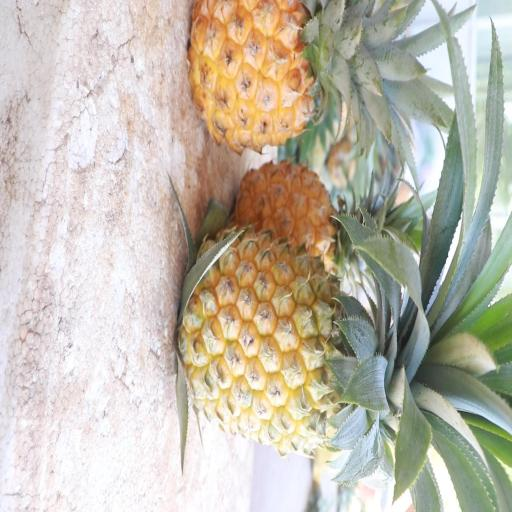Pineapple - v8 v1: (173, 220, 427, 457), (184, 0, 374, 162), (230, 159, 380, 301), (244, 98, 244, 99)
